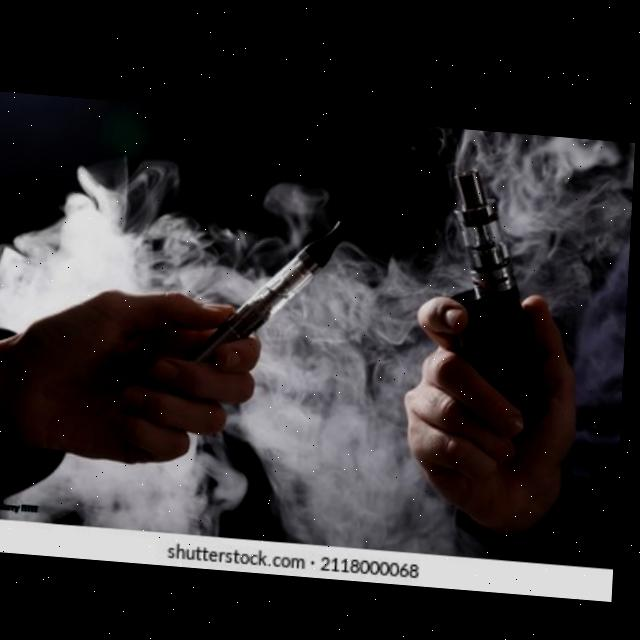vape: (160, 197, 353, 397), (447, 159, 562, 413)
